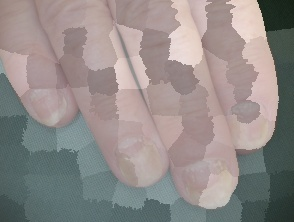Nail_psoriasis: (166, 141, 249, 221), (99, 117, 176, 199), (217, 76, 291, 158), (19, 74, 78, 136)
